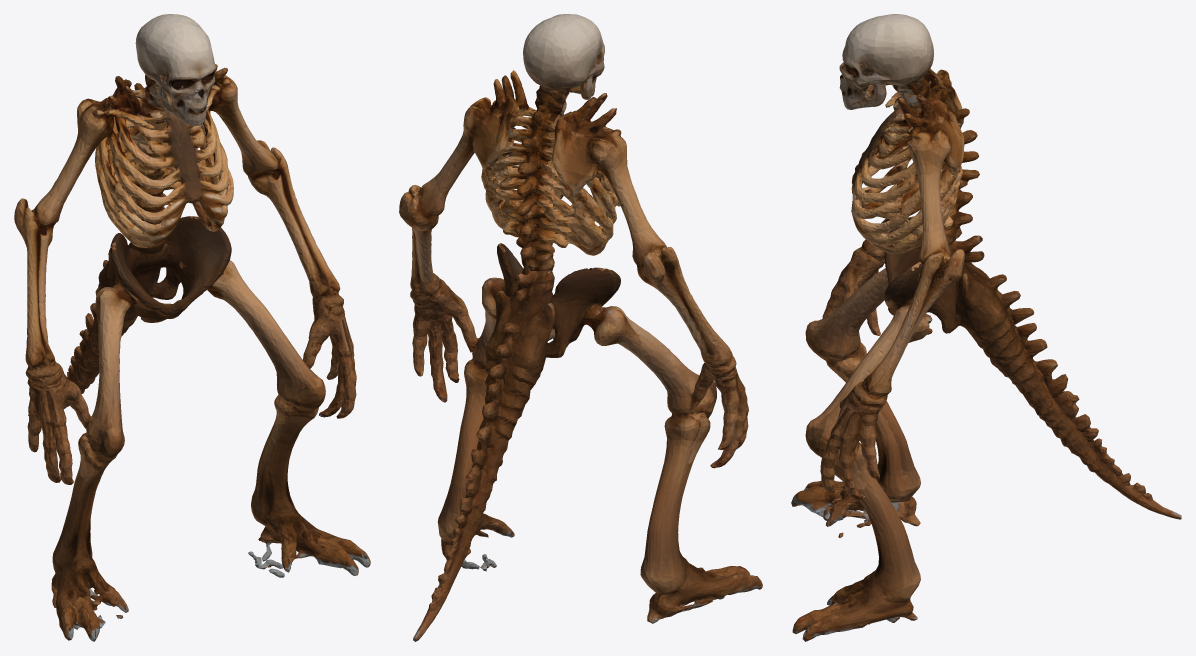
File: undead_skeleton2.glb
3 renders of one model, left to right at view 1: azimuth 30°, elevation 25°; view 2: azimuth 150°, elevation 25°; view 3: azimuth 270°, elevation 25°, orthographic. The views are drawn at different scales.
Visible parts, largest first — view 1: textured_mesh.obj; view 2: textured_mesh.obj; view 3: textured_mesh.obj.
Boxes of the visible parts, x1,y1,x2,y2 form: textured_mesh.obj: [14, 14, 370, 641]; textured_mesh.obj: [399, 14, 762, 641]; textured_mesh.obj: [791, 14, 1181, 641].
Bounding box in the file's own units: 1.16 × 1.99 × 1.24.
Materials: 1 (1 with a texture image).
